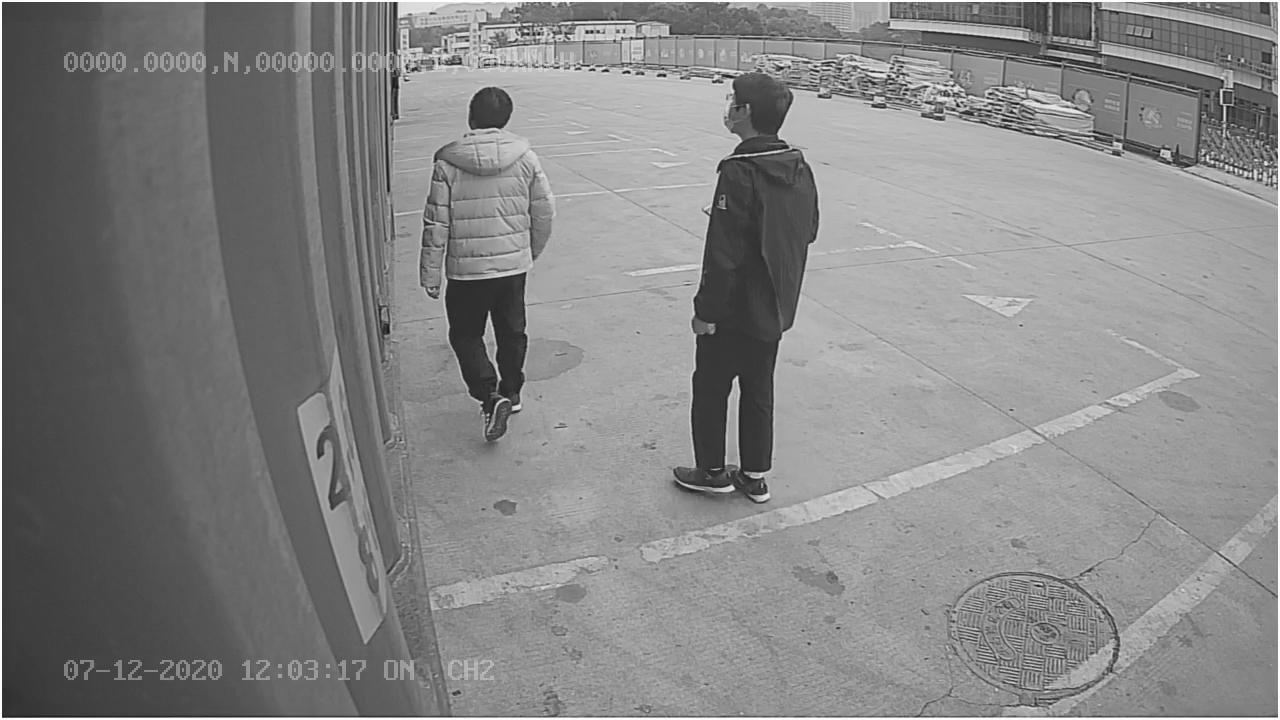person: (670, 71, 818, 506), (418, 87, 557, 447)
